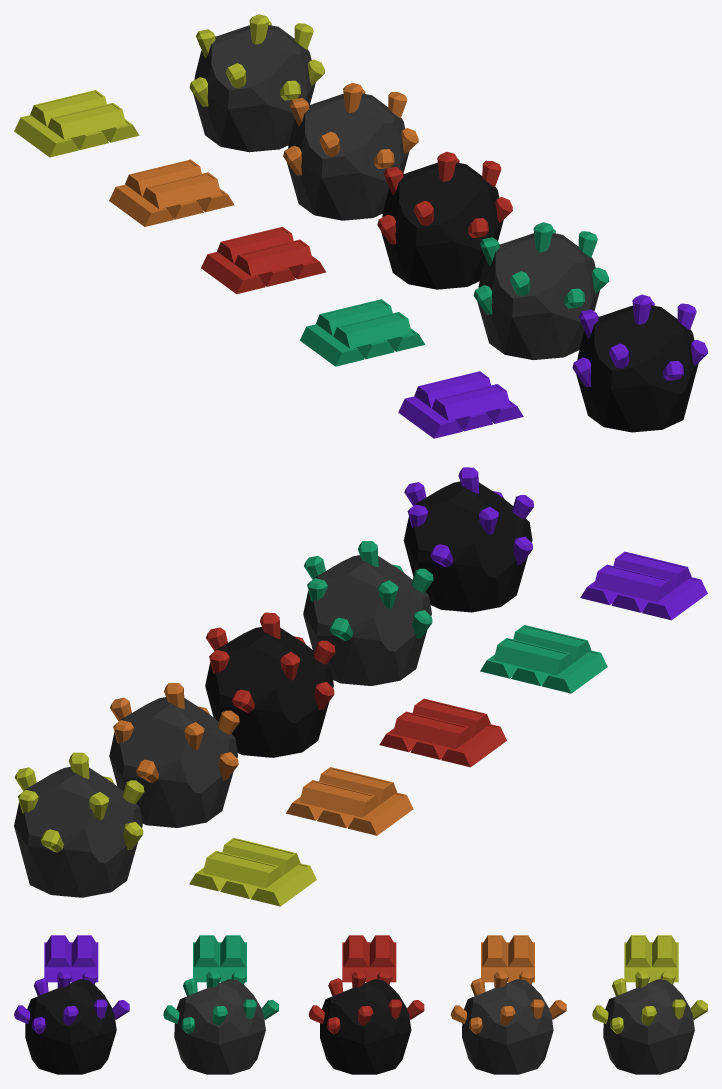
The model's file is Ércek.fbx.
3 renders of one model, top to bottom at view 1: azimuth 30°, elevation 25°; view 2: azimuth 150°, elevation 25°; view 3: azimuth 270°, elevation 25°, orthographic. The views are drawn at different scales.
Parts seen in each view (by area): view 1: Lila, Zöldes, Piros, Narancs, Sárga, Narancs ingot, Sárga ingot, Zöldes ingot, Lila ingot, Piros ingot; view 2: Sárga, Lila, Zöldes, Piros, Narancs, Piros ingot, Zöldes ingot, Lila ingot, Narancs ingot, Sárga ingot; view 3: Zöldes, Lila, Sárga, Narancs, Piros, Piros ingot, Sárga ingot, Lila ingot, Zöldes ingot, Narancs ingot.
Boxes of the visible parts, x1,y1,x2,y2 form: Lila: (572,294,707,432); Zöldes: (473,222,609,359); Piros: (377,151,512,289); Narancs: (283,82,418,220); Sárga: (189,14,324,152); Narancs ingot: (109,159,234,226); Sárga ingot: (14,90,139,157); Zöldes ingot: (300,299,425,366); Lila ingot: (398,371,523,438); Piros ingot: (201,226,325,294); Sárga: (14,752,144,897); Lila: (403,467,533,612); Zöldes: (303,541,433,685); Piros: (205,612,335,757); Narancs: (109,683,239,827); Piros ingot: (379,698,506,767); Zöldes ingot: (480,625,607,693); Lila ingot: (580,551,707,620); Narancs ingot: (286,767,413,835); Sárga ingot: (189,838,316,906); Zöldes: (163,970,278,1074); Lila: (14,970,129,1074); Sárga: (592,970,707,1074); Narancs: (451,970,566,1074); Piros: (308,970,424,1074); Piros ingot: (342,935,396,982); Sárga ingot: (624,935,678,982); Lila ingot: (44,935,98,982); Zöldes ingot: (193,935,246,982); Narancs ingot: (481,935,534,982).
Size of the model in its own units: 430 by 172 by 1228.
